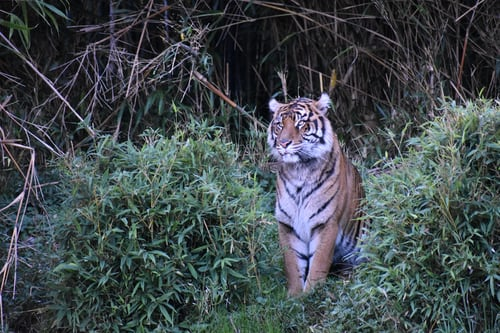tiger: (266, 97, 331, 171)
